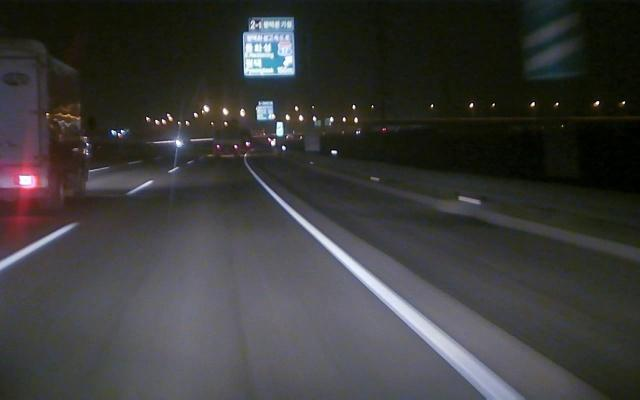lane: (251, 172, 526, 398), (3, 179, 157, 269)
